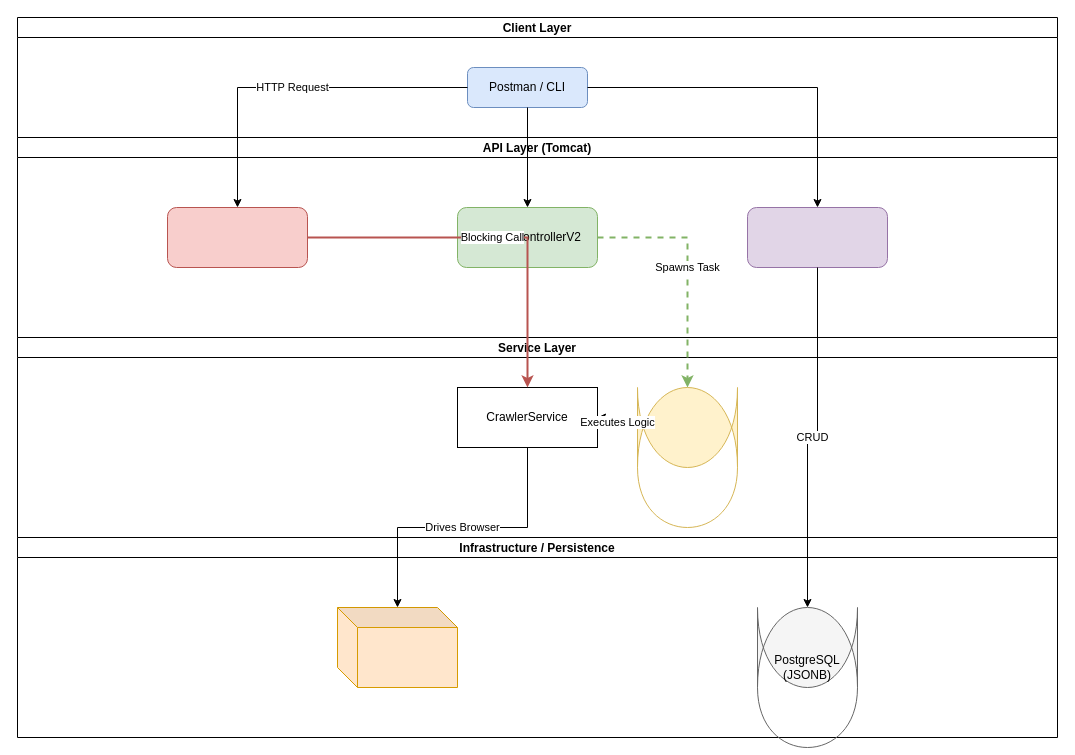
The diagram is 1075 pixels wide and 755 high, and some of its shapes have lost their labels. Each missing label, with the centre of its shape:
"CrawlerController (V1)" goes at point (237, 237).
"HistoryController" goes at point (817, 237).
"Selenium Grid" goes at point (397, 647).
"Virtual Thread Pool" goes at point (687, 427).
